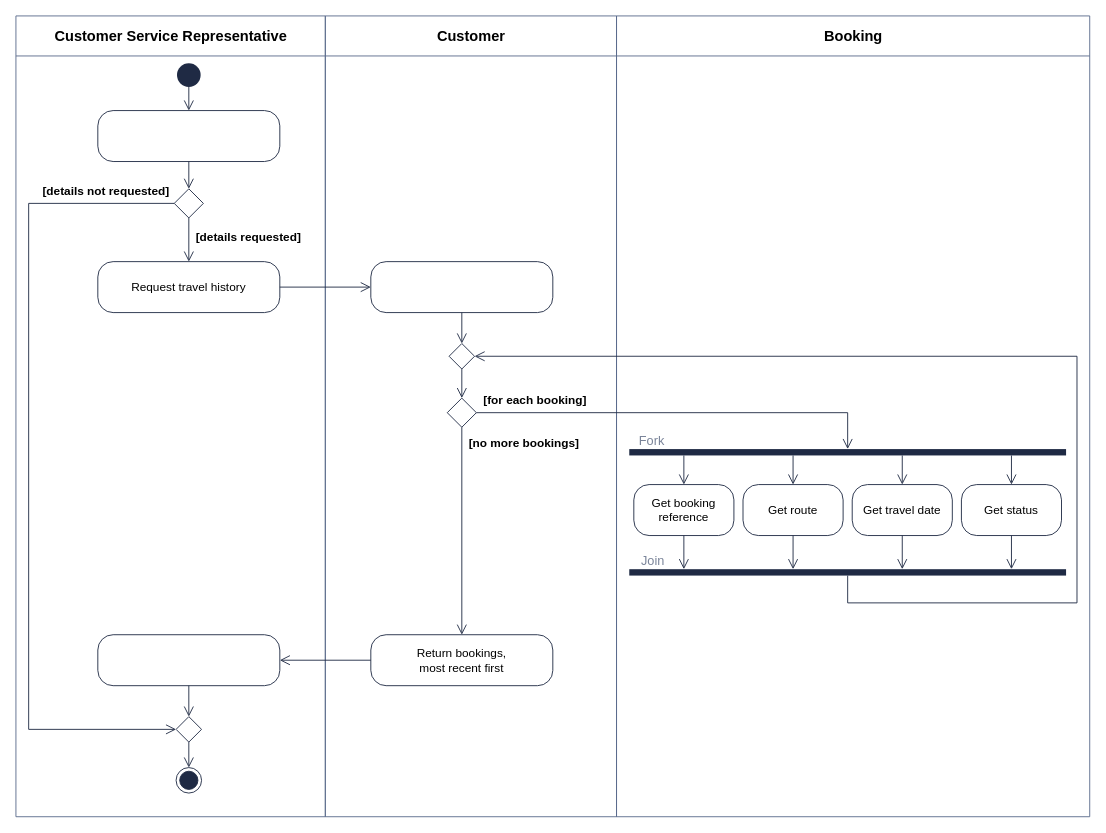
This 1106x833 diagram has some shape labels left out. Each missing label, with the centre of its shape:
Get travel history: (x=461, y=287)
Review selected customer: (x=188, y=136)
View read-only reservations, flights and cancellations: (x=188, y=660)
